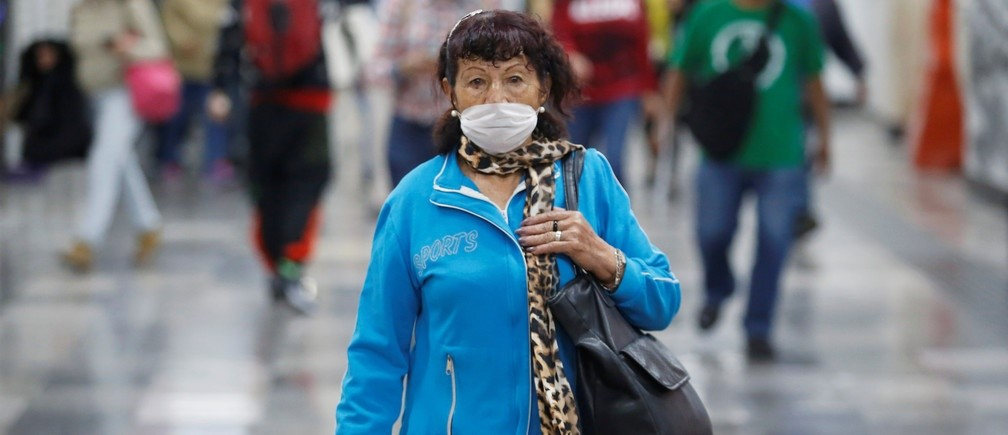face_with_mask: (437, 27, 561, 167)
